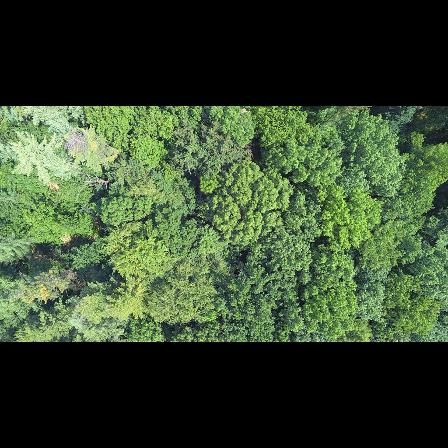Dead: (73, 173, 116, 197)
